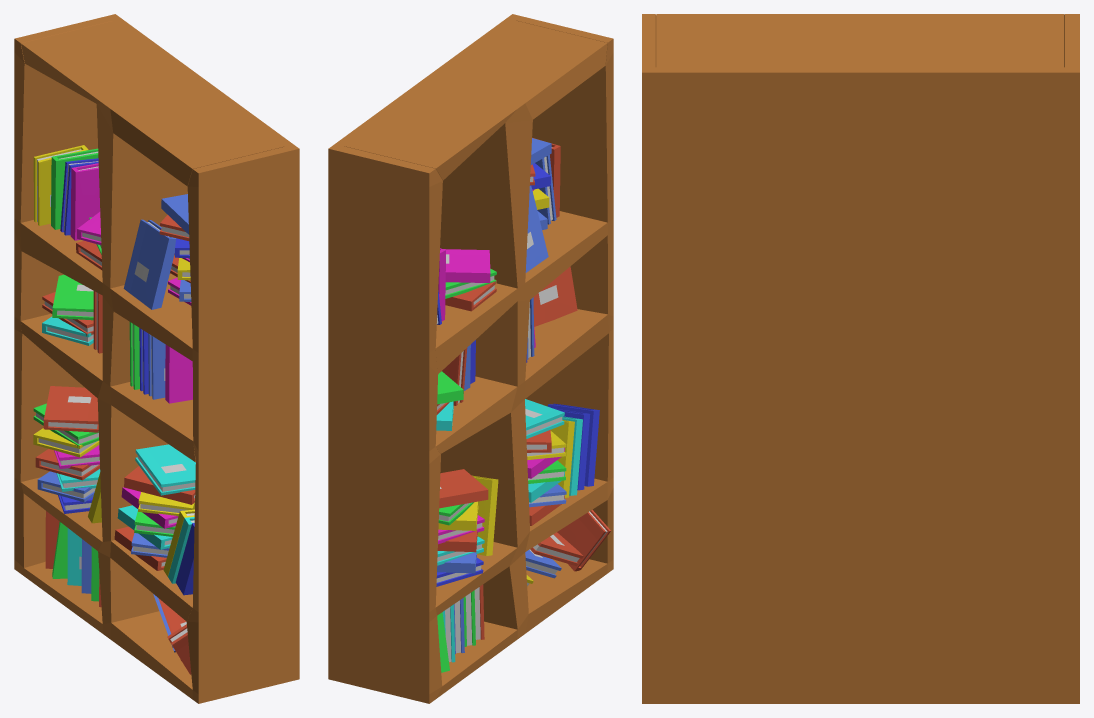
The model's file is rak buku.fbx.
3 views of the same model, side by side, from view 1: azimuth 30°, elevation 25°; view 2: azimuth 150°, elevation 25°; view 3: azimuth 270°, elevation 25° (orthographic). The views are drawn at different scales.
Parts seen in each view (by area): view 1: Cube, Cube.002, Cube.033, Cube.049, Cube.060, Cube.003, Cube.042, Cube.001, Cube.013; view 2: Cube, Cube.002, Cube.033, Cube.060, Cube.049, Cube.013, Cube.001, Cube.042, Cube.003; view 3: Cube.
Part boxes in pixels (x1,y1,x2,y2): Cube: [14, 14, 299, 703]; Cube.002: [114, 444, 195, 595]; Cube.033: [33, 386, 101, 523]; Cube.049: [33, 145, 102, 270]; Cube.060: [123, 194, 191, 309]; Cube.003: [129, 322, 192, 403]; Cube.042: [42, 274, 102, 353]; Cube.001: [45, 511, 101, 607]; Cube.013: [153, 594, 191, 674]; Cube: [328, 14, 613, 703]; Cube.002: [525, 399, 599, 525]; Cube.033: [436, 469, 498, 586]; Cube.060: [525, 137, 560, 272]; Cube.049: [436, 248, 496, 324]; Cube.013: [525, 509, 610, 586]; Cube.001: [437, 584, 484, 672]; Cube.042: [436, 340, 475, 430]; Cube.003: [526, 266, 577, 362]; Cube: [642, 14, 1079, 703].
Bounding box in the file's own units: 1092 × 4778 × 3004.
